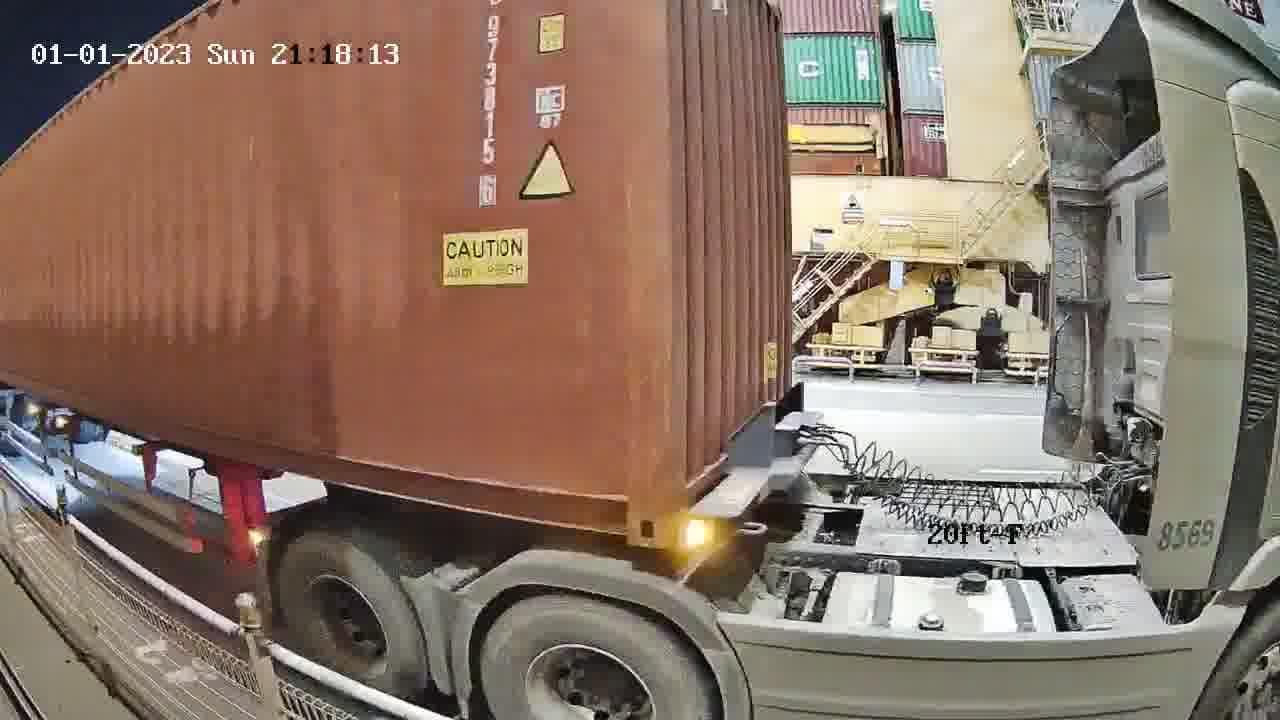Chassis: (683, 410, 823, 527)
Hole_R: (589, 457, 684, 542)
Tire: (478, 599, 714, 719), (275, 537, 426, 691)
